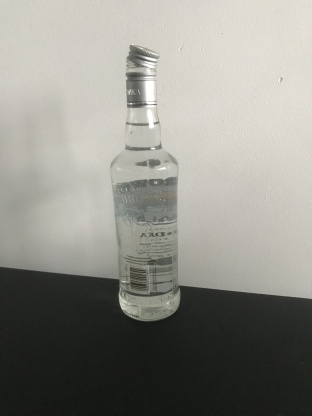nakretka: (124, 41, 160, 108)
